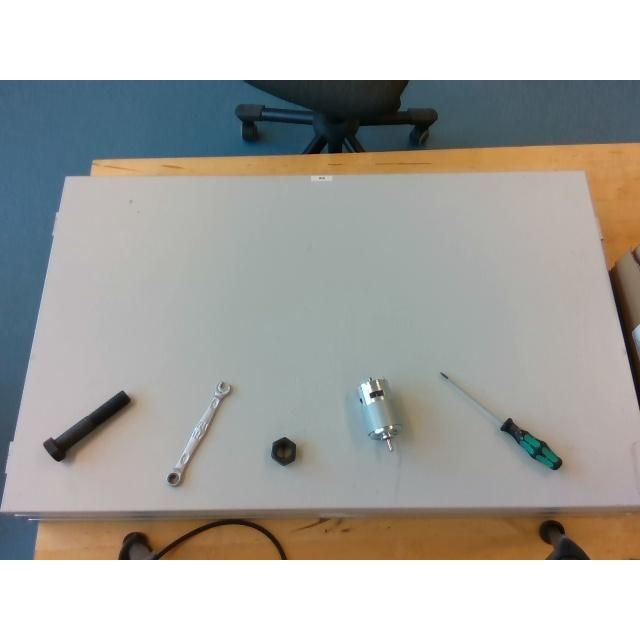M20: (270, 436, 296, 464)
M20_100: (42, 391, 130, 462)
Motor2: (358, 377, 402, 451)
Screwdriver: (440, 370, 562, 470)
Wrench: (164, 380, 230, 486)
